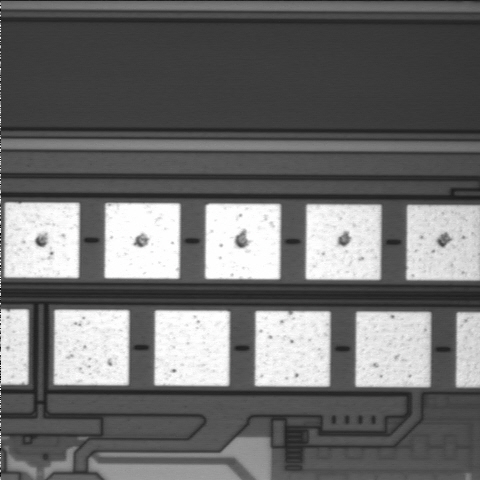pad: (4, 202, 80, 278), (104, 203, 180, 279), (154, 310, 230, 386), (205, 204, 281, 279), (306, 204, 381, 280), (255, 311, 330, 387), (355, 312, 431, 387), (54, 310, 129, 385)
